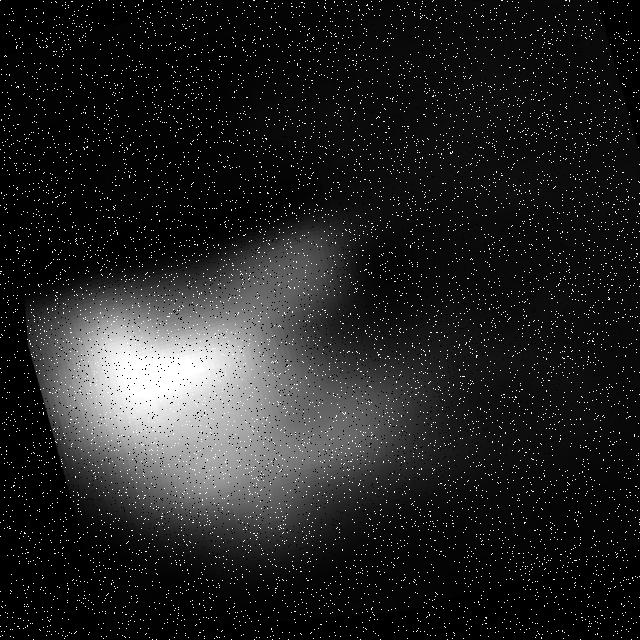person: (13, 156, 548, 613)
